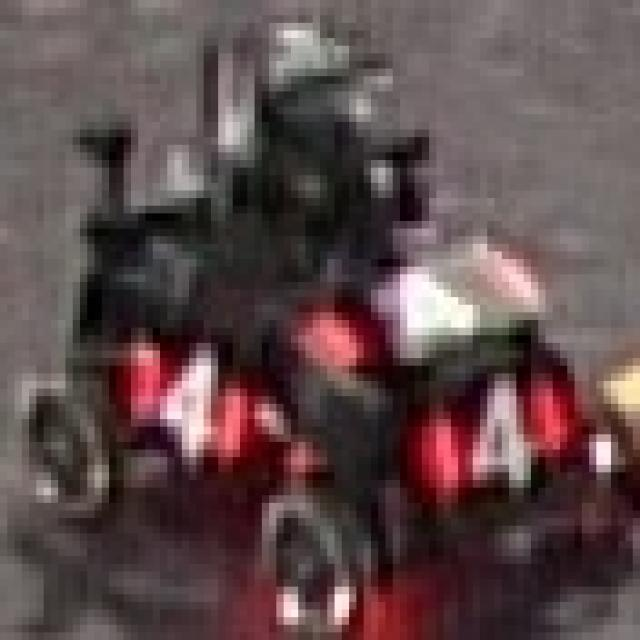R4: (298, 229, 538, 358), (116, 335, 255, 465), (429, 374, 560, 496)
